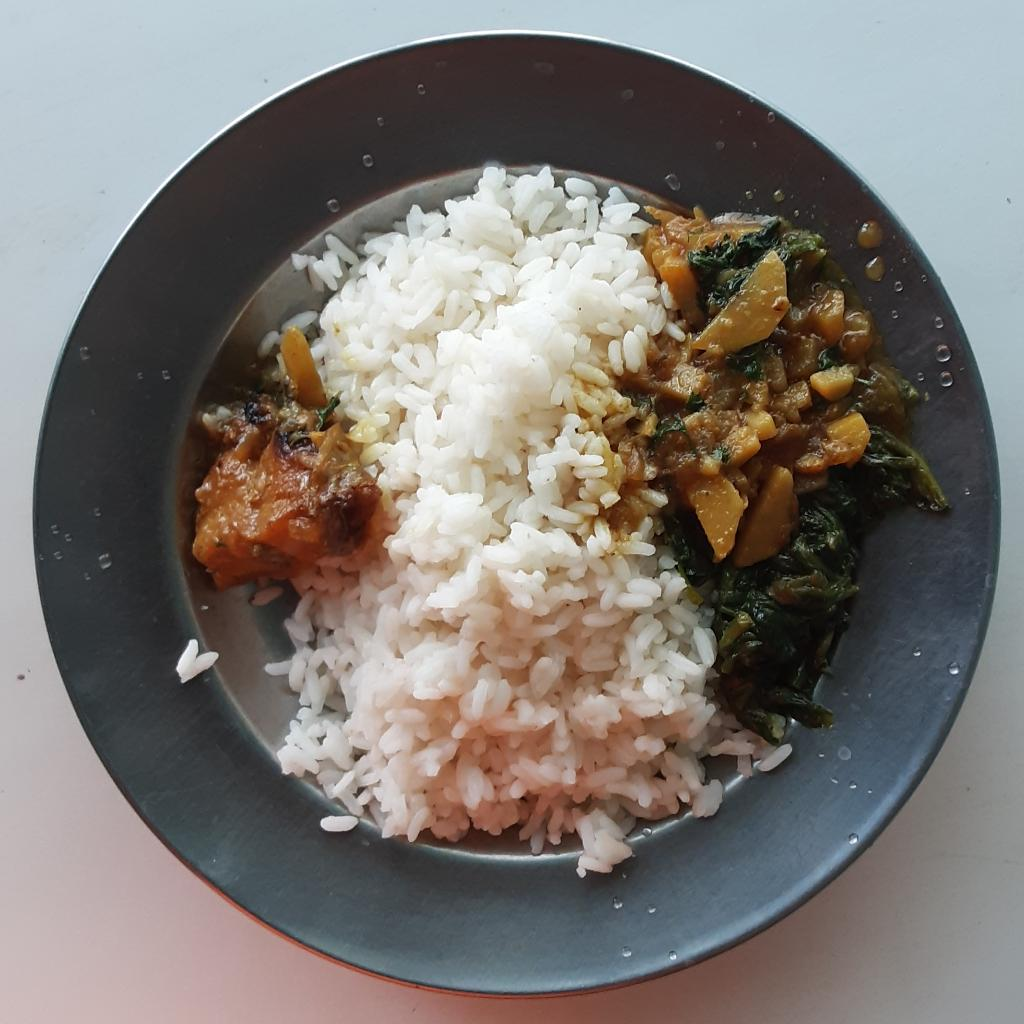fish: (190, 332, 387, 597)
potato: (626, 201, 908, 566)
rice: (256, 158, 791, 874), (176, 645, 224, 686)
shak: (674, 413, 948, 732), (692, 217, 824, 308)
